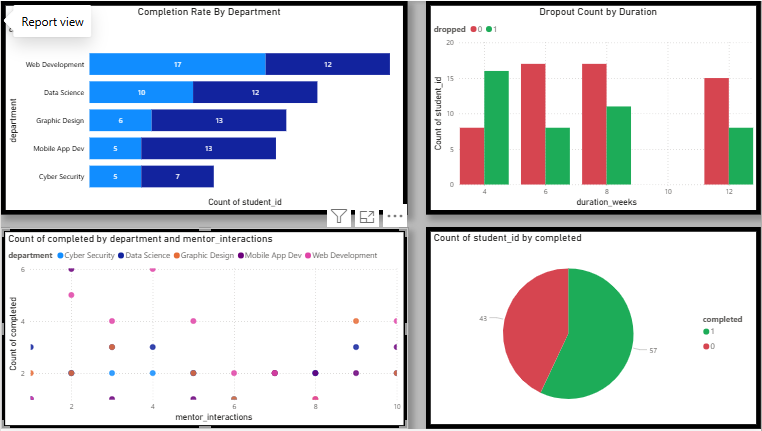

Layout of this report page (visuals, bound fields, positions):
{"tool":"powerbi","page":{"name":"Page 1","canvas":[1280,720],"ordinal":0},"visuals":[{"type":"barChart","title":"Completion Rate By Department","fields":{"Category":["InternshipData.department"],"Y":["CountNonNull(InternshipData.student_id)"],"Series":["InternshipData.completed"]},"box":[0,0,685.5,360.4],"z":0},{"type":"clusteredColumnChart","title":"Dropout Count by Duration","fields":{"Category":["InternshipData.duration_weeks"],"Y":["CountNonNull(InternshipData.student_id)"],"Series":["InternshipData.dropped"]},"box":[715.8,0,564.2,360.4],"z":1000},{"type":"scatterChart","fields":{"X":["InternshipData.mentor_interactions"],"Y":["CountNonNull(InternshipData.completed)"],"Series":["InternshipData.department"]},"box":[0,382.3,685.5,338.5],"z":2000},{"type":"pieChart","fields":{"Category":["InternshipData.completed"],"Y":["CountNonNull(InternshipData.student_id)"]},"box":[715.8,380.6,564.2,340.2],"z":2001}]}

Visuals, with their boxes in screenshot pixels (x1, y1, x2, y2):
"Completion Rate By Department" barChart: bbox=(2, 2, 404, 214)
"Dropout Count by Duration" clusteredColumnChart: bbox=(422, 2, 753, 214)
scatterChart - InternshipData.mentor_interactions x CountNonNull(InternshipData.completed): bbox=(2, 226, 404, 425)
pieChart - InternshipData.completed x CountNonNull(InternshipData.student_id): bbox=(422, 225, 753, 425)
